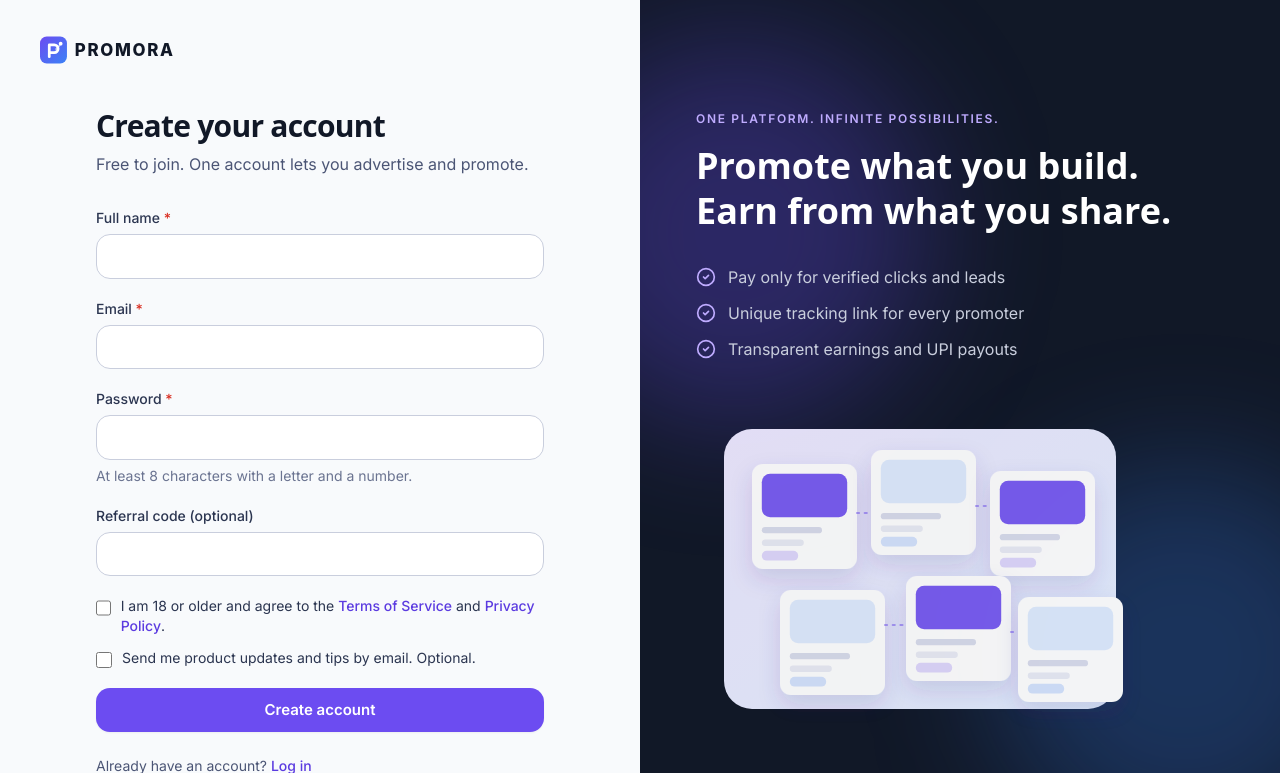
Test: registration form validation › blocks submission and explains each problem
This screenshot has width=1280, height=773.
In the field labelled "Full name *": (320, 256) x1=96 y1=234 x2=544 y2=278, type "A"
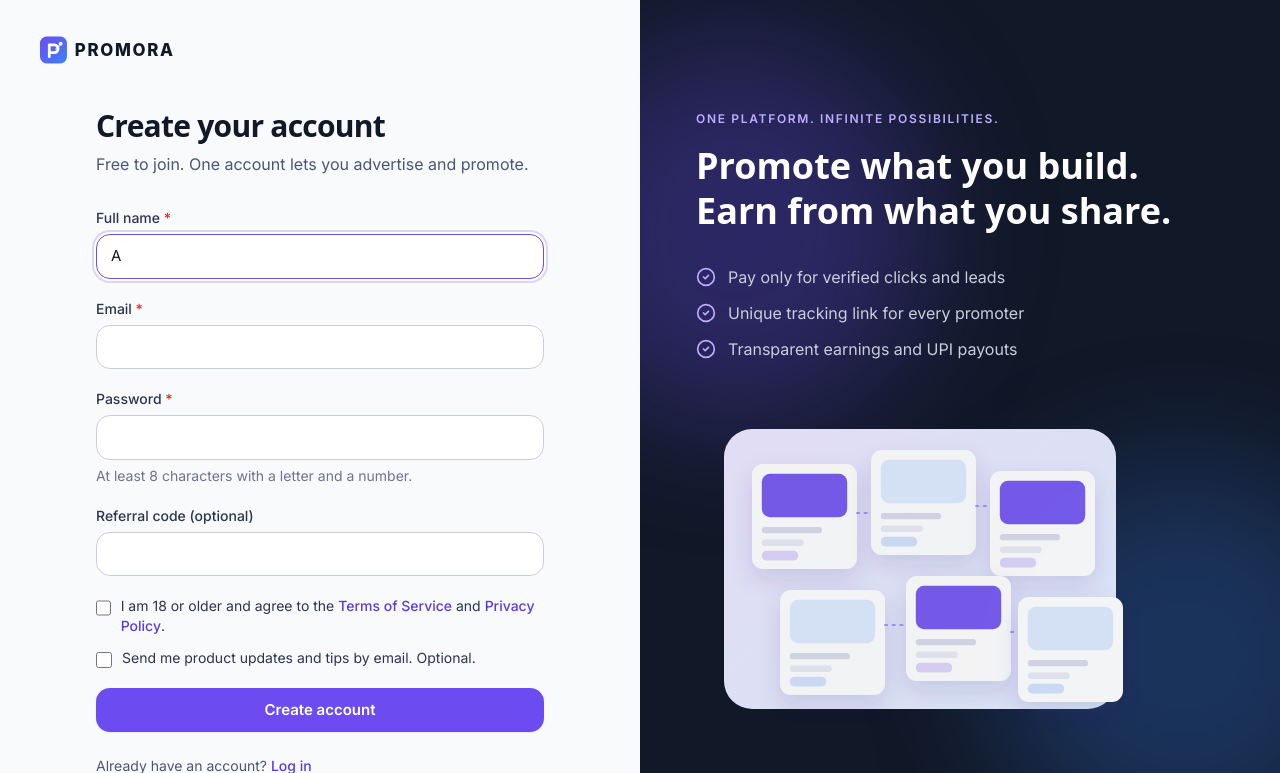
In the field labelled "Email *": (320, 347) x1=96 y1=324 x2=544 y2=369, type "not-an-email"
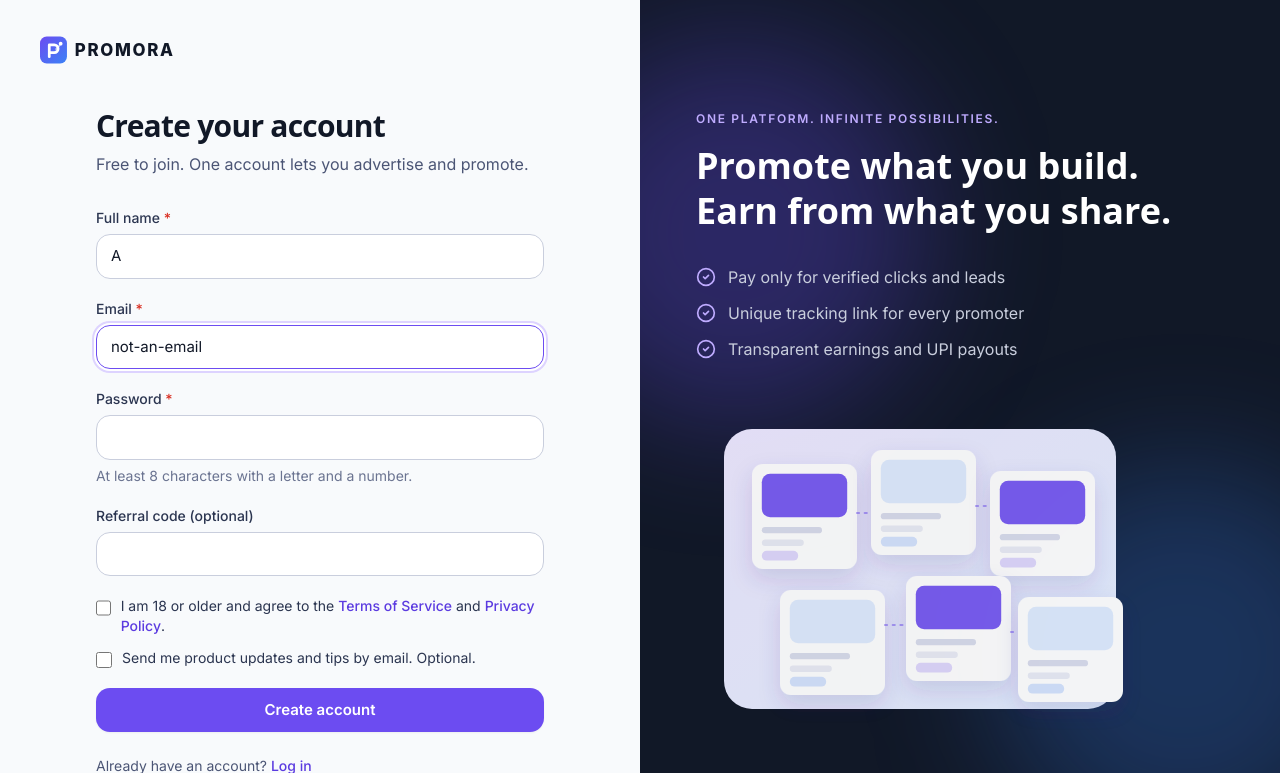
In the password field labelled "Password *": (320, 437) x1=96 y1=415 x2=544 y2=460, type "short"
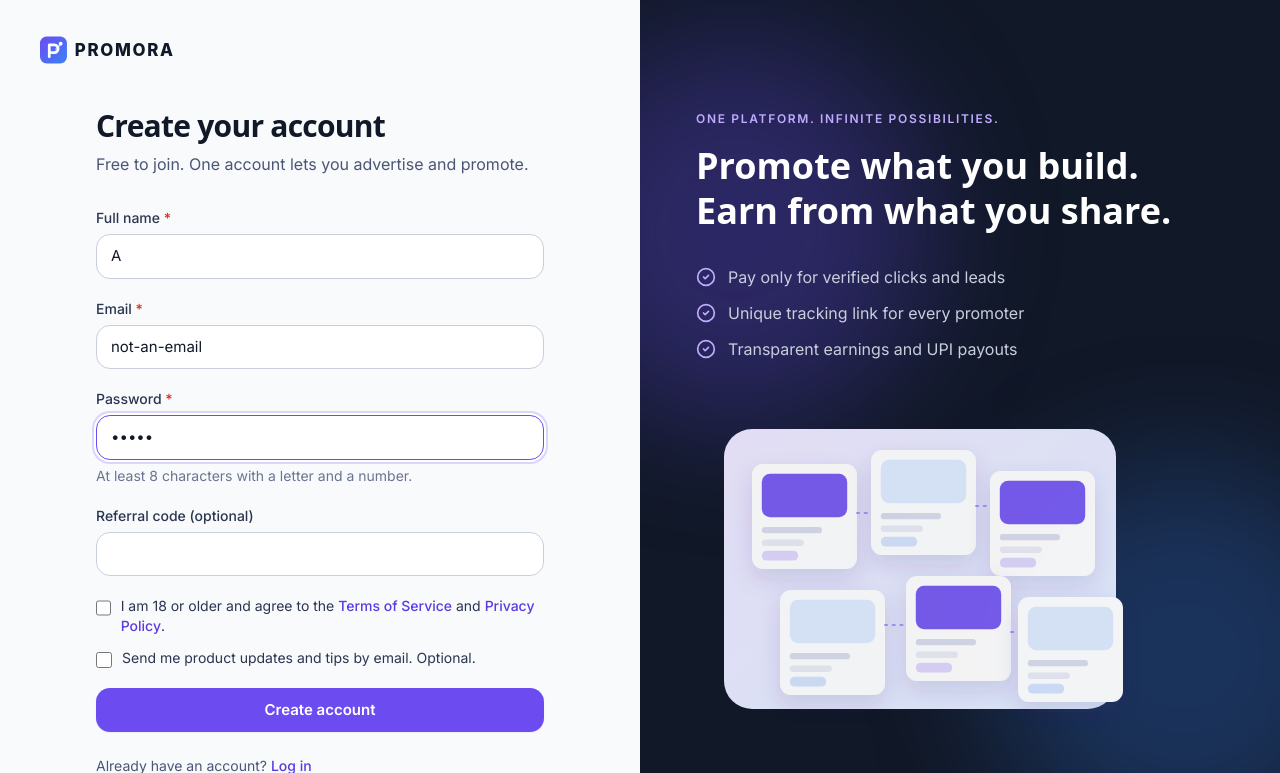
Click the button "Create account": click(320, 710) x1=96 y1=688 x2=544 y2=732
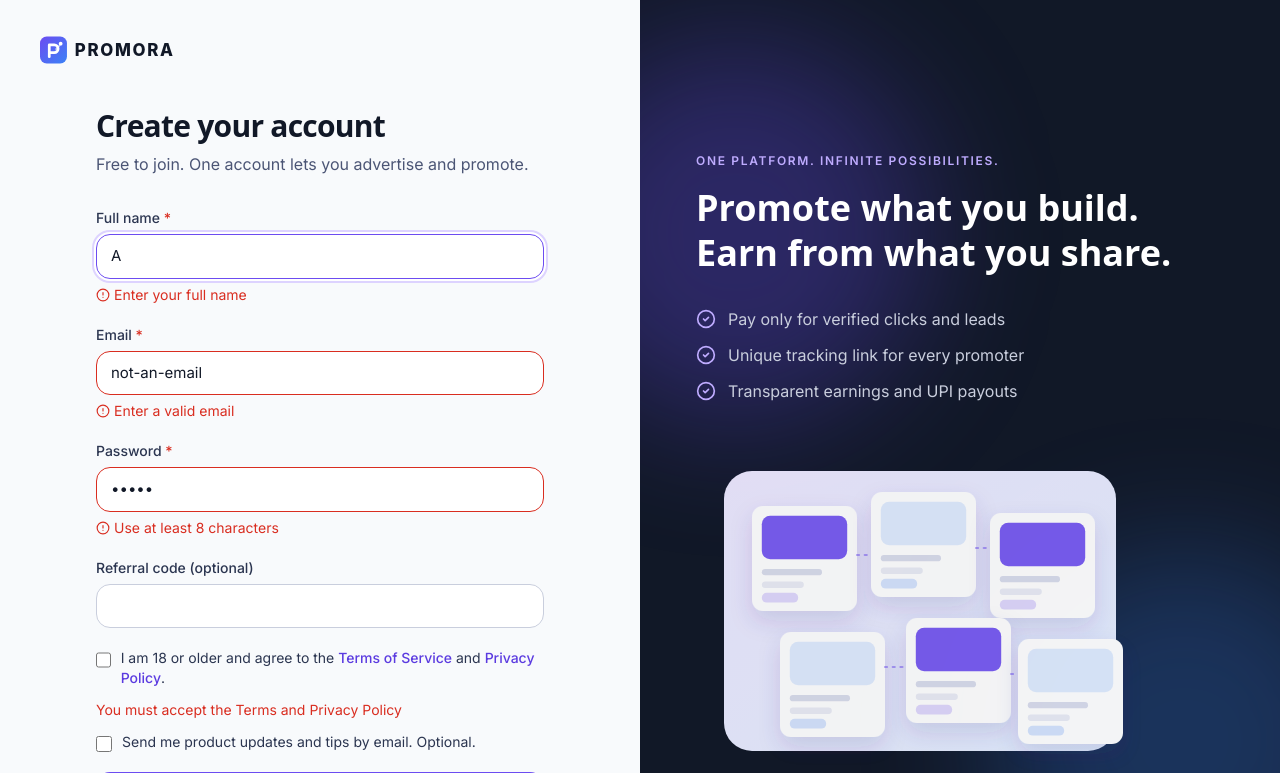
expect the text "Enter your full name" is shown: met, box x1=96 y1=286 x2=247 y2=302
expect the text "Enter a valid email" is shown: met, box x1=96 y1=402 x2=234 y2=419
expect the text "Use at least 8 characters" is shown: met, box x1=96 y1=518 x2=279 y2=536
